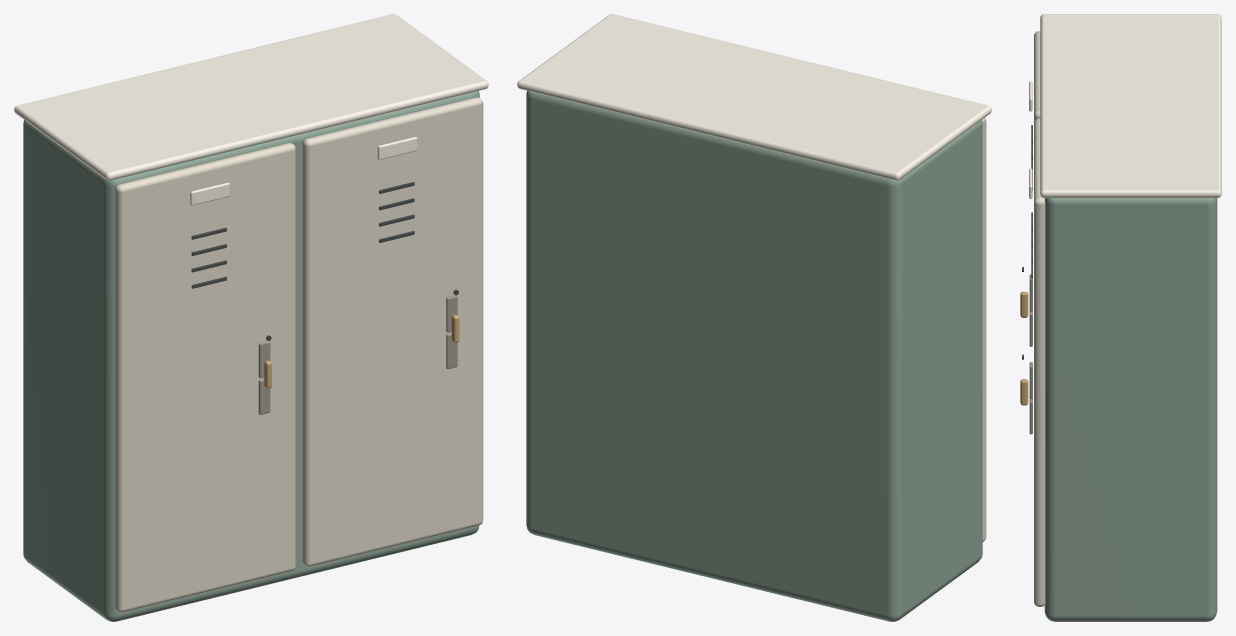
Rendered from locker.glb.
3 views of the same model, side by side, from view 1: azimuth 30°, elevation 25°; view 2: azimuth 150°, elevation 25°; view 3: azimuth 270°, elevation 25° (orthographic). The views are drawn at different scales.
Visible parts, largest first — view 1: Locker door.001, Locker door, Locker body, Top cap; view 2: Locker body, Top cap, Locker door; view 3: Locker body, Top cap, Locker door.001, Locker door.
Part boxes in pixels (bbox=[...]): Locker door.001: bbox=[302, 97, 483, 566]; Locker door: bbox=[115, 143, 295, 612]; Locker body: bbox=[23, 91, 479, 621]; Top cap: bbox=[14, 14, 488, 180]; Locker body: bbox=[526, 91, 982, 621]; Top cap: bbox=[517, 14, 991, 180]; Locker door: bbox=[982, 117, 986, 541]; Locker body: bbox=[1044, 198, 1217, 621]; Top cap: bbox=[1040, 14, 1221, 197]; Locker door.001: bbox=[1034, 118, 1045, 606]; Locker door: bbox=[1034, 31, 1040, 121].
Bounding box in the file's own units: 0.98 × 1.12 × 0.466.
